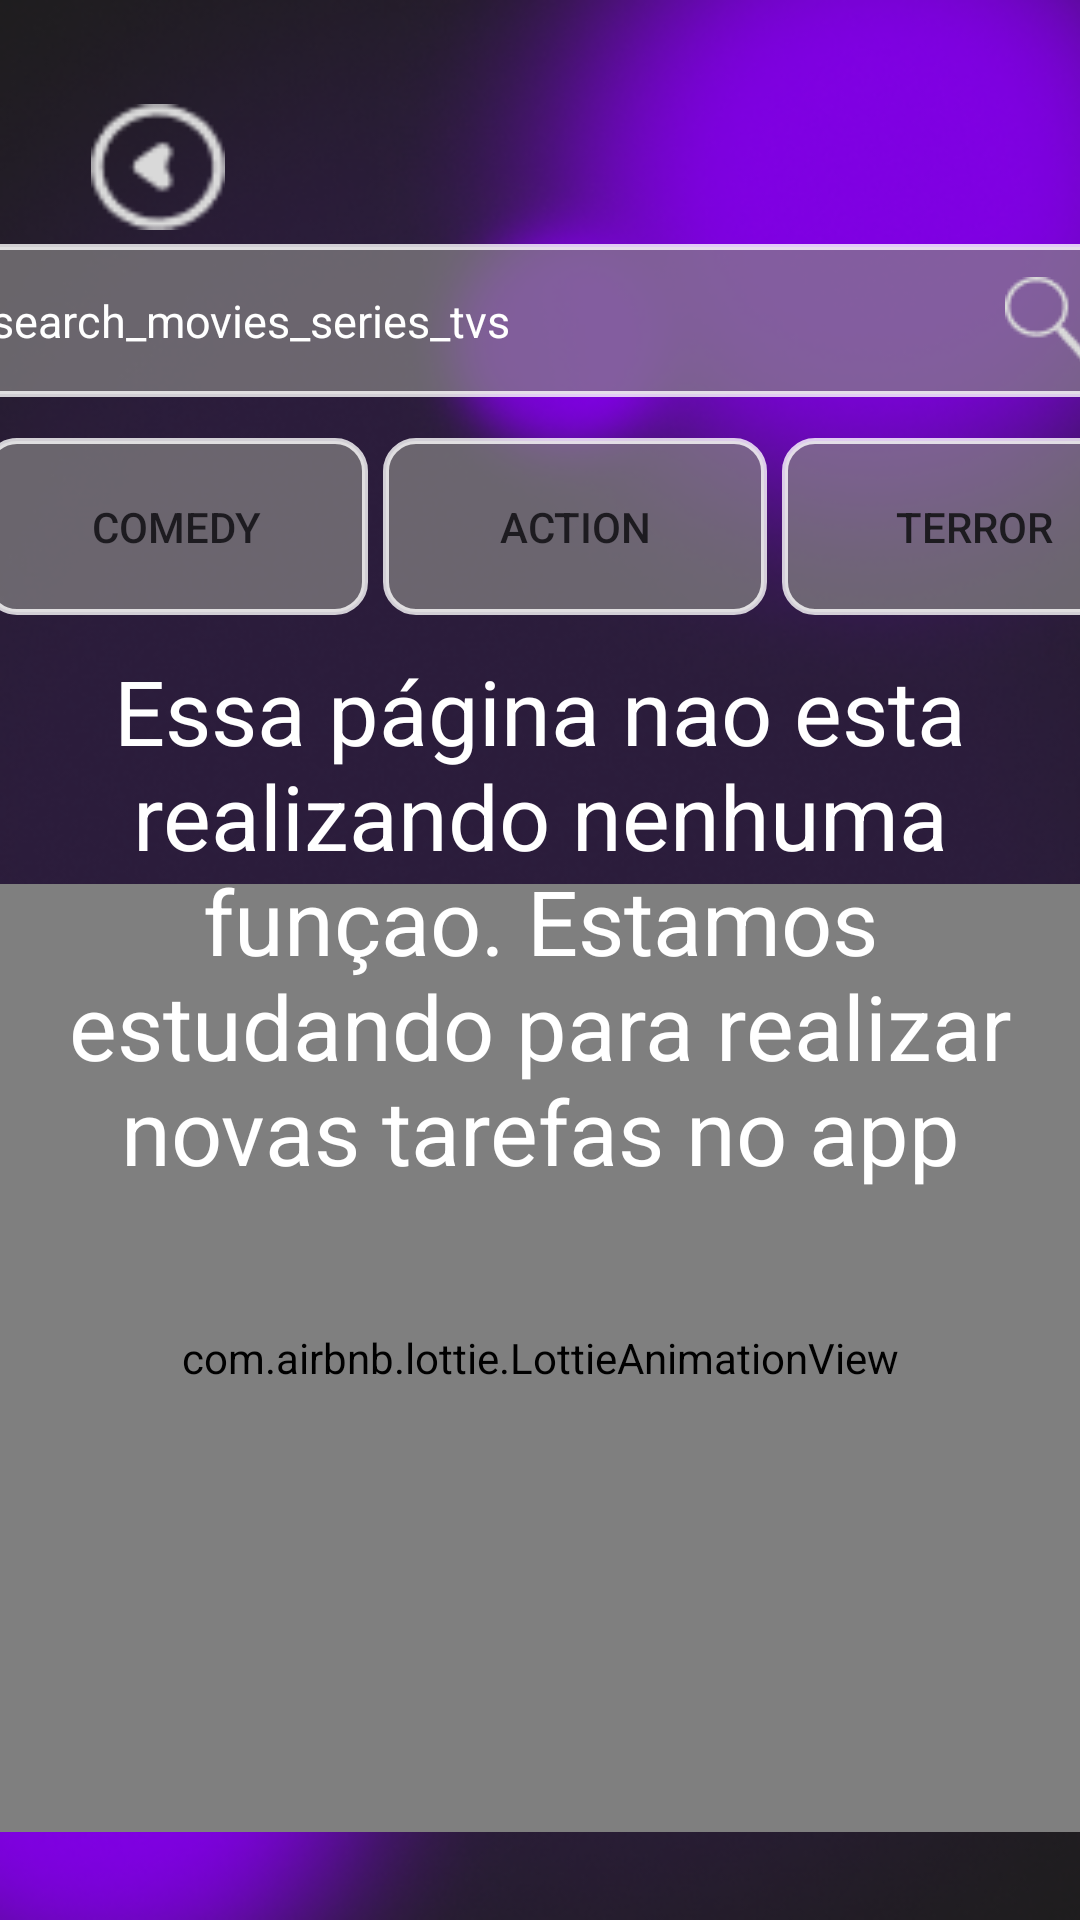

Where to tap for icons on this 1080px×1920px app screen, as point (x, y):
backimg: point (158, 167)
